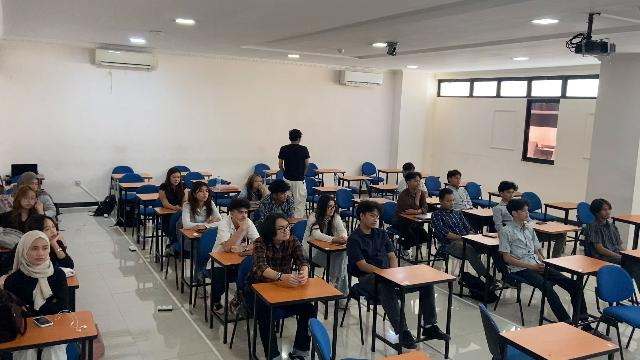fokus: (257, 214, 295, 250), (354, 198, 387, 235), (223, 198, 255, 230), (587, 197, 617, 227), (507, 199, 532, 232), (186, 182, 216, 208), (312, 194, 339, 222), (268, 178, 293, 207), (435, 188, 460, 213), (495, 179, 520, 204), (401, 172, 425, 195), (162, 166, 184, 191), (244, 173, 266, 196), (444, 167, 465, 191), (30, 241, 48, 264), (43, 221, 58, 239), (21, 191, 36, 209), (30, 180, 38, 192)
